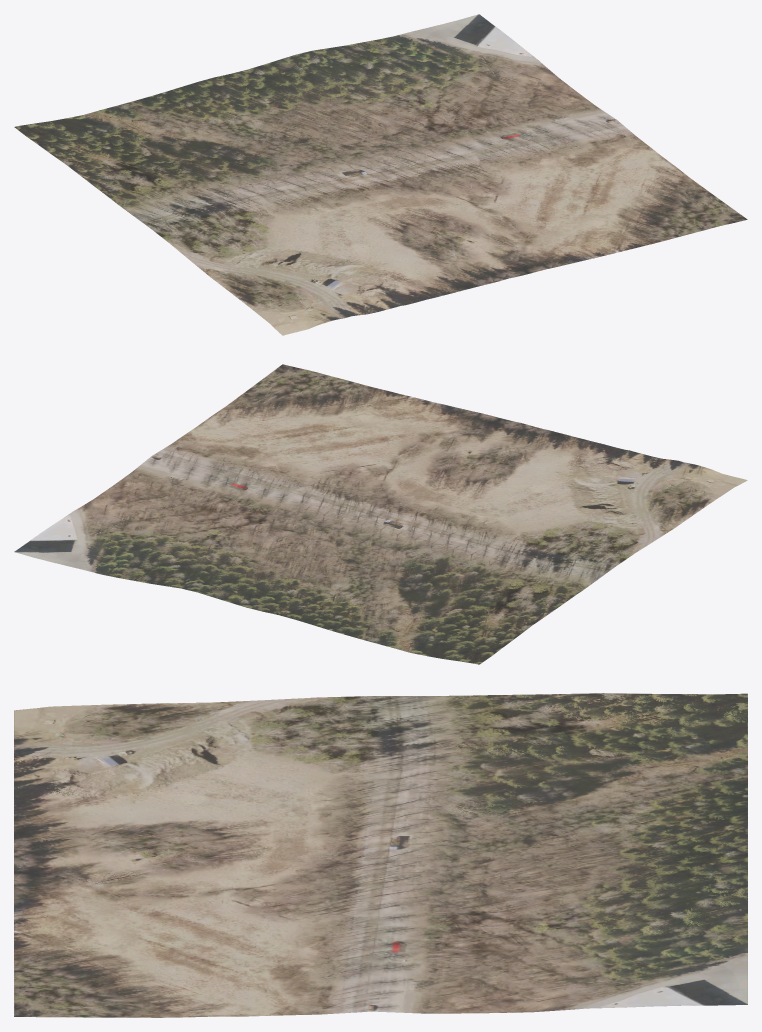
Rendered from CM_Terrain_24493530_6815903.fbx.
3 views of the same model, one above another, from view 1: azimuth 30°, elevation 25°; view 2: azimuth 150°, elevation 25°; view 3: azimuth 270°, elevation 25° (orthographic). The views are drawn at different scales.
Parts seen in each view (by area): view 1: CM_Terrain_24493530_6815903_LOD0; view 2: CM_Terrain_24493530_6815903_LOD0; view 3: CM_Terrain_24493530_6815903_LOD0.
Part boxes in pixels (bbox=[...]): CM_Terrain_24493530_6815903_LOD0: bbox=[14, 14, 747, 335]; CM_Terrain_24493530_6815903_LOD0: bbox=[14, 364, 747, 664]; CM_Terrain_24493530_6815903_LOD0: bbox=[14, 693, 747, 1017].
Size of what is drawn, in the model's own units: 205 by 6.62 by 205.
